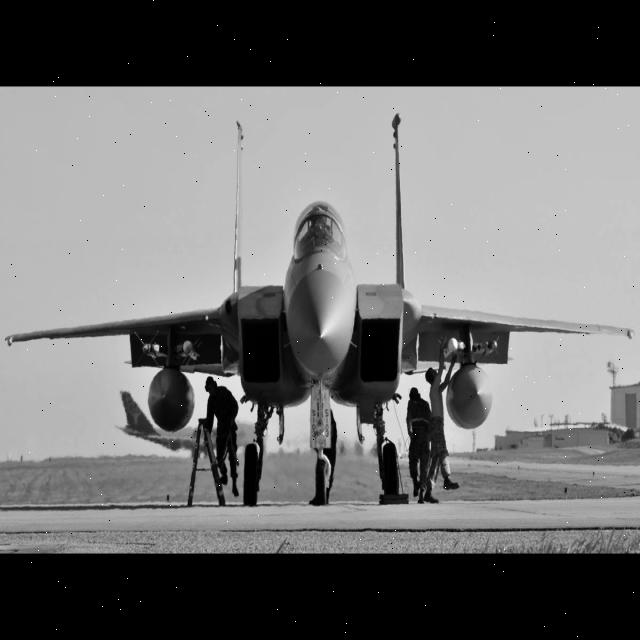F15: (0, 96, 640, 572)
